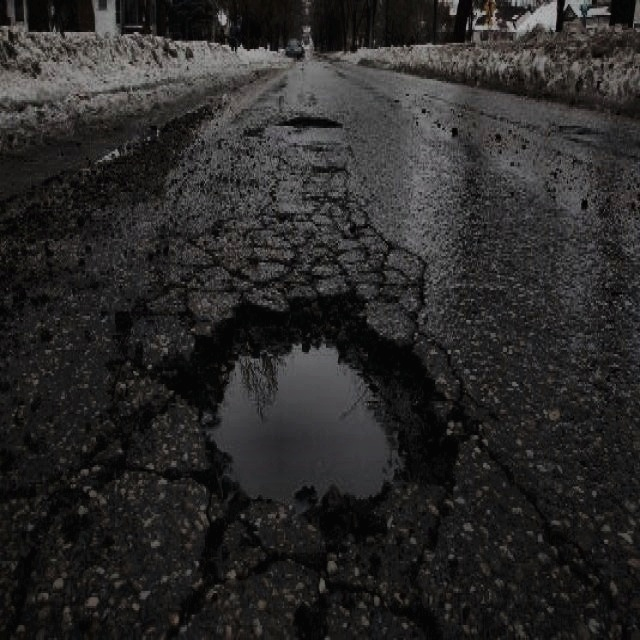Pothole: (160, 282, 468, 550), (280, 111, 340, 130)
